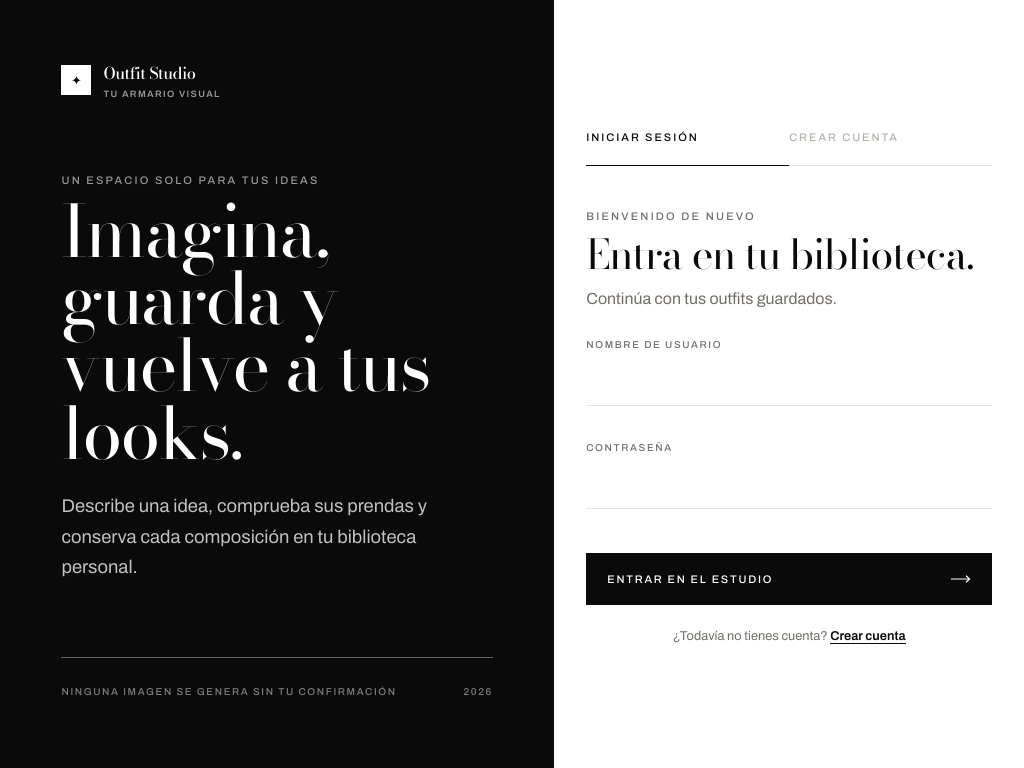
it: sesión de usuario › muestra el acceso y entra con una cuenta existente
Check: the heading "Entra en tu biblioteca." is shown, box [586,234,992,275]
Type "admin" into the field labelled "Nombre de usuario" at (789, 384), box [586,362,992,406]
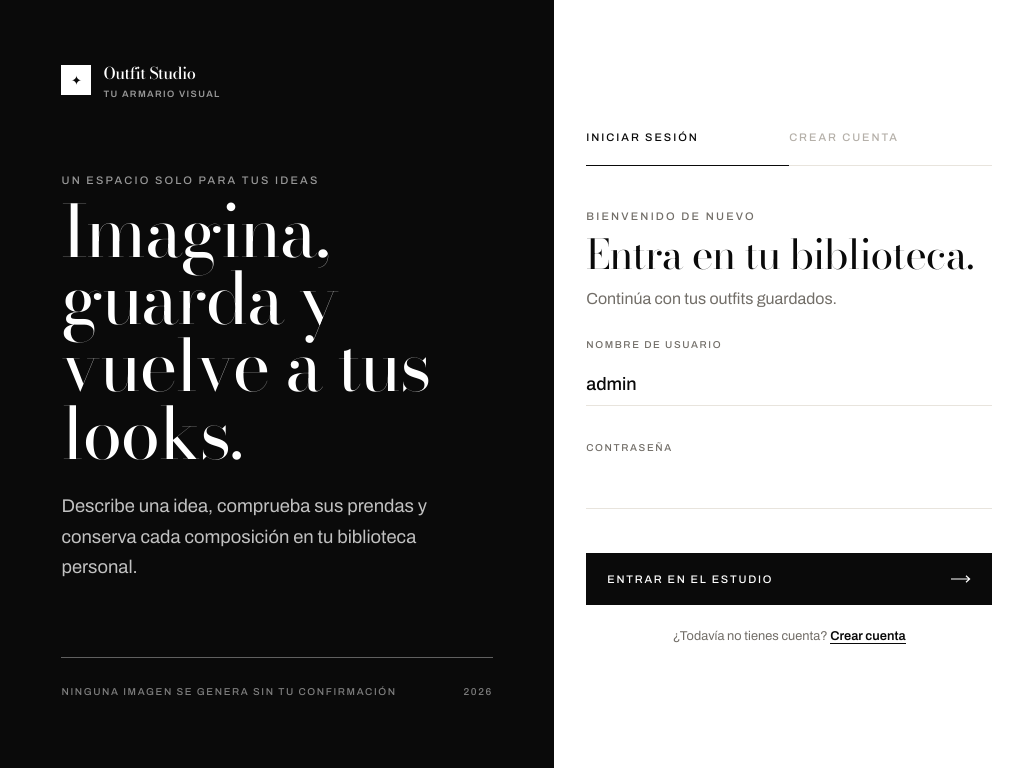
Type "test" into the password field labelled "Contraseña" at (789, 487), box [586,465,992,509]
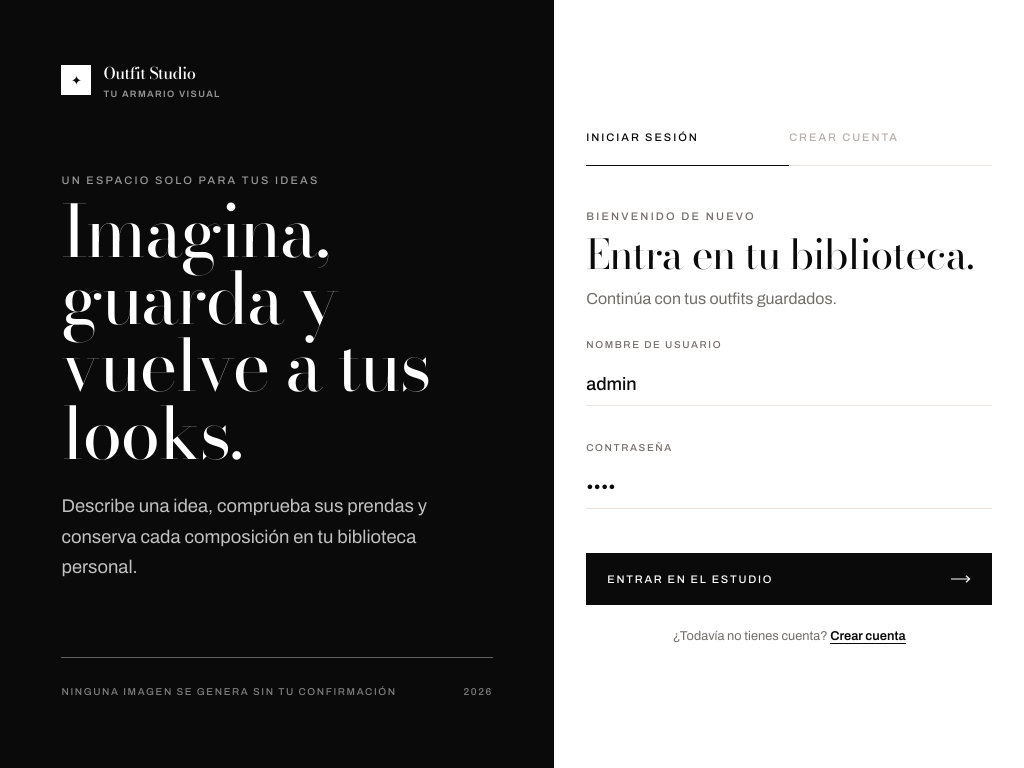
Click the button "Entrar en el estudio" at (690, 579), box [586,553,992,605]
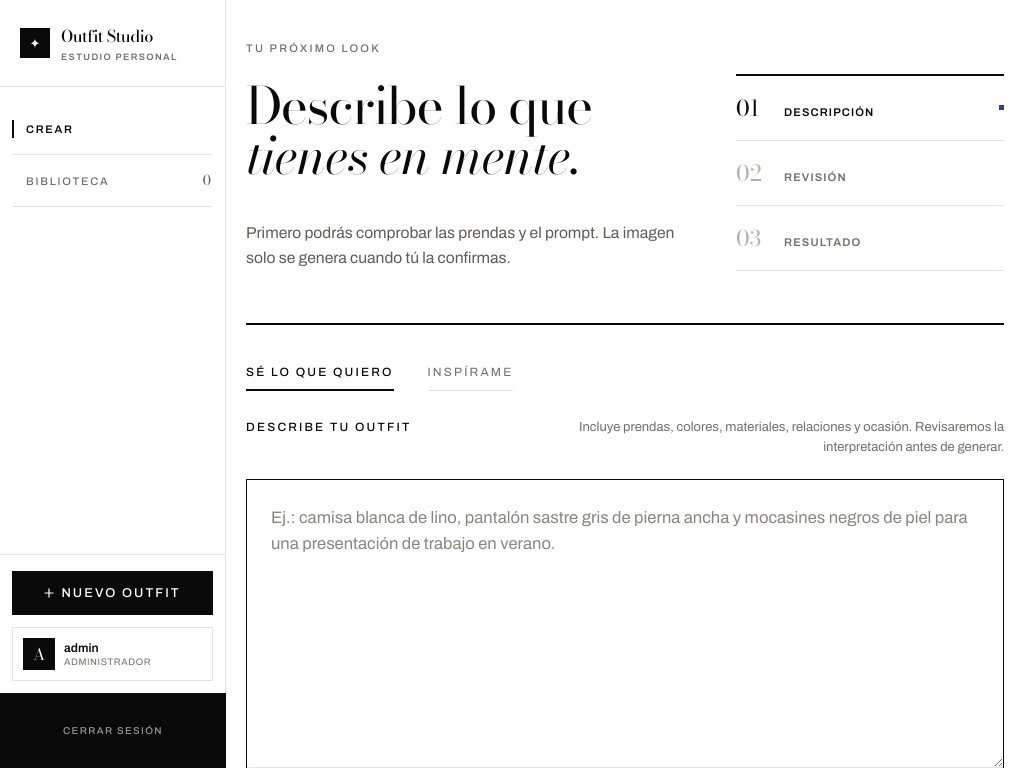
Check: the heading "Describe lo que tienes en mente." is shown, box [246,66,592,194]
